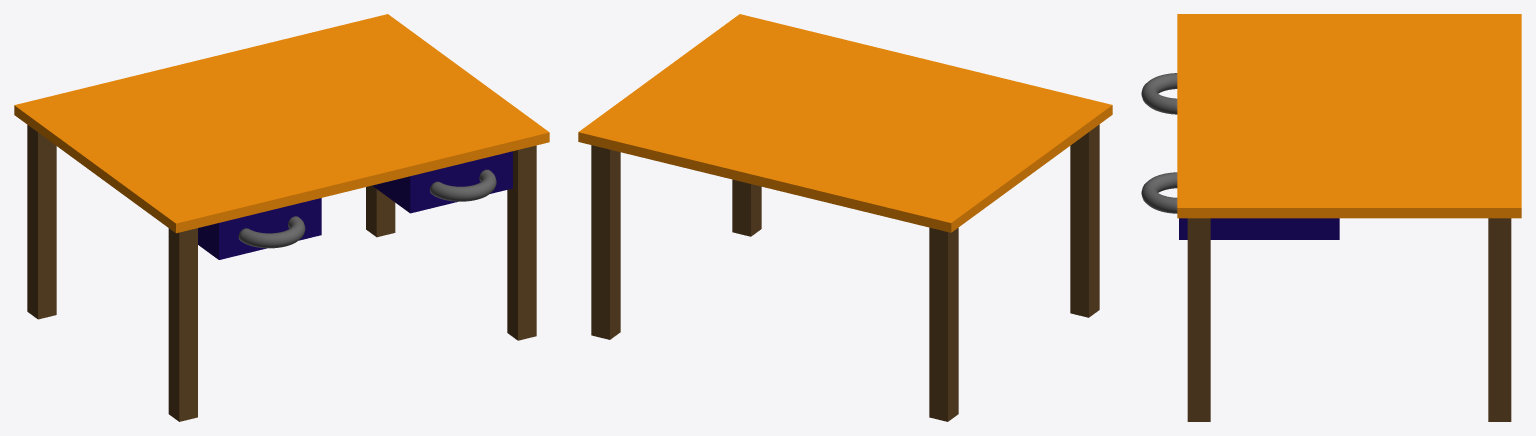
Rendered from table.fbx.
3 renders of one model, left to right at view 1: azimuth 30°, elevation 25°; view 2: azimuth 150°, elevation 25°; view 3: azimuth 270°, elevation 25°, orthographic. The views are drawn at different scales.
Parts seen in each view (by area): view 1: Dessus, Patte4, Patte1, Patte3, Tiroir, Tiroir2, Patte2; view 2: Dessus, Patte3, Patte2, Patte4, Patte1; view 3: Dessus, Patte1, Patte2, Tiroir, Tiroir2.
Boxes of the visible parts, box(x1,y1,x2,y2) form: Dessus: box(14, 14, 549, 233); Patte4: box(168, 228, 197, 421); Patte1: box(507, 145, 536, 340); Patte3: box(27, 125, 56, 319); Tiroir: box(372, 151, 512, 213); Tiroir2: box(198, 198, 321, 259); Patte2: box(366, 185, 395, 237); Dessus: box(578, 14, 1112, 232); Patte3: box(929, 227, 958, 421); Patte2: box(591, 145, 620, 339); Patte4: box(1070, 124, 1099, 317); Patte1: box(732, 179, 761, 236); Dessus: box(1177, 14, 1521, 218); Patte1: box(1187, 218, 1210, 421); Patte2: box(1488, 218, 1511, 421); Tiroir: box(1141, 172, 1339, 239); Tiroir2: box(1141, 73, 1177, 114).
Size of the model in its own units: 400 by 210 by 331.
